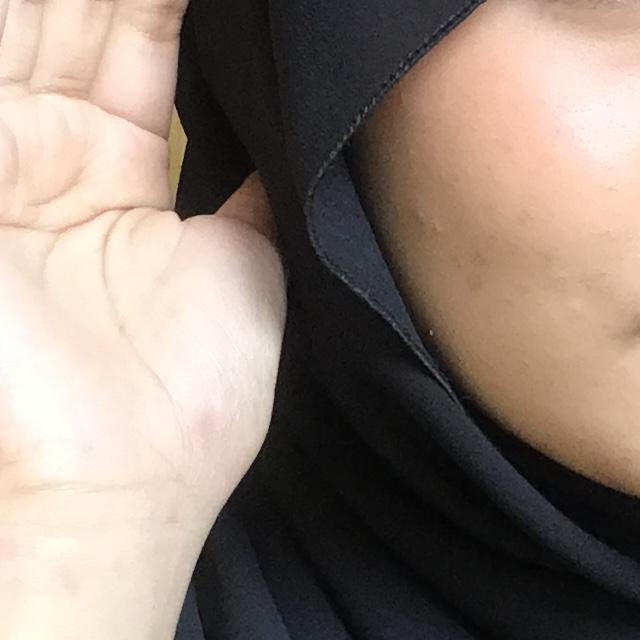mendengar: (0, 0, 340, 636)
